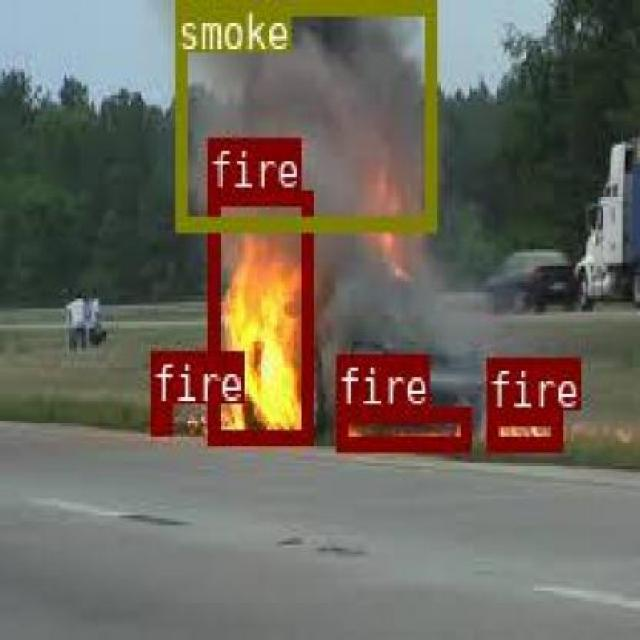Fire: (206, 189, 309, 443), (334, 403, 468, 448), (486, 410, 560, 448), (148, 401, 170, 434)
Smoke: (174, 0, 434, 226)
